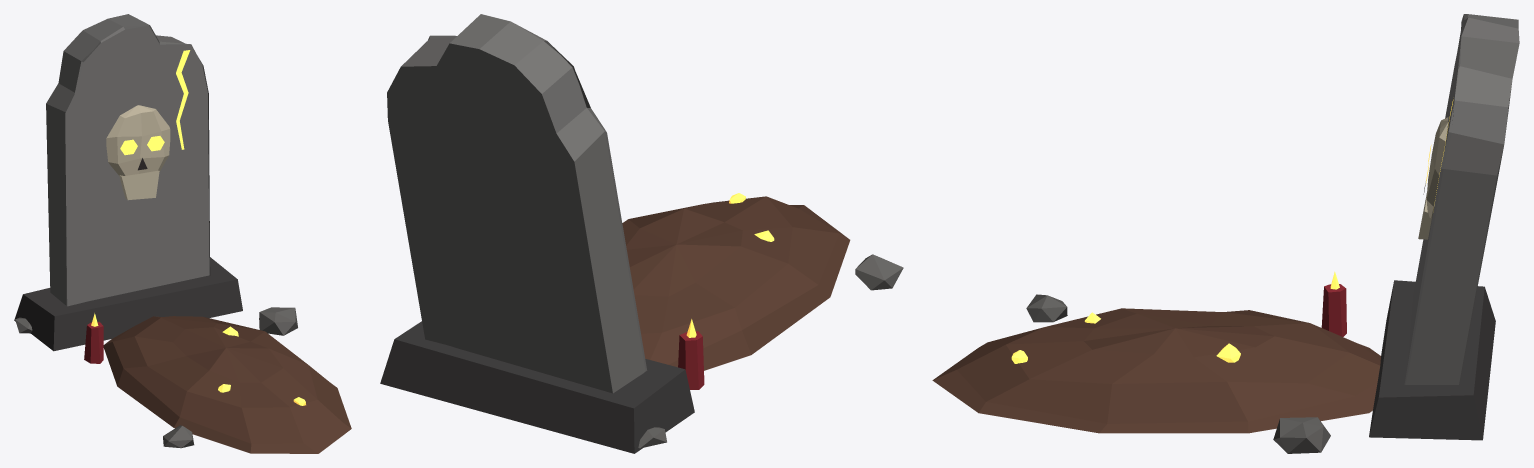
Rendered from gravestone.glb.
The picture shows the model from 3 angles, left to right: view 1: azimuth 30°, elevation 25°; view 2: azimuth 150°, elevation 25°; view 3: azimuth 270°, elevation 25°; orthographic projection. The views are drawn at different scales.
Visible parts, largest first — view 1: headstone, grave_mound, plinth, skull_carving, rock_1, skull_jaw, candle, rock_2, ember_crack, skull_eyes; view 2: headstone, grave_mound, plinth, candle, rock_2; view 3: grave_mound, headstone, plinth, rock_1, candle, skull_carving, rock_2.
Boxes of the visible parts, x1,y1,x2,y2 form: headstone: (46,14,210,306); grave_mound: (103,316,351,453); plinth: (14,257,242,351); skull_carving: (106,105,170,175); rock_1: (259,307,297,335); skull_jaw: (119,170,159,200); candle: (84,321,103,363); rock_2: (163,425,194,448); ember_crack: (176,50,190,149); skull_eyes: (120,136,164,155); headstone: (387,14,647,393); grave_mound: (622,196,850,370); plinth: (380,321,694,453); candle: (678,331,704,389); rock_2: (855,254,903,290); grave_mound: (932,308,1380,433); headstone: (1404,14,1519,384); plinth: (1369,280,1495,440); rock_1: (1273,417,1330,453); candle: (1321,284,1346,336); skull_carving: (1426,117,1448,218); rock_2: (1026,294,1067,322).
Size of what is drawn, in the model's own units: 0.9559 by 1.11 by 1.6.
